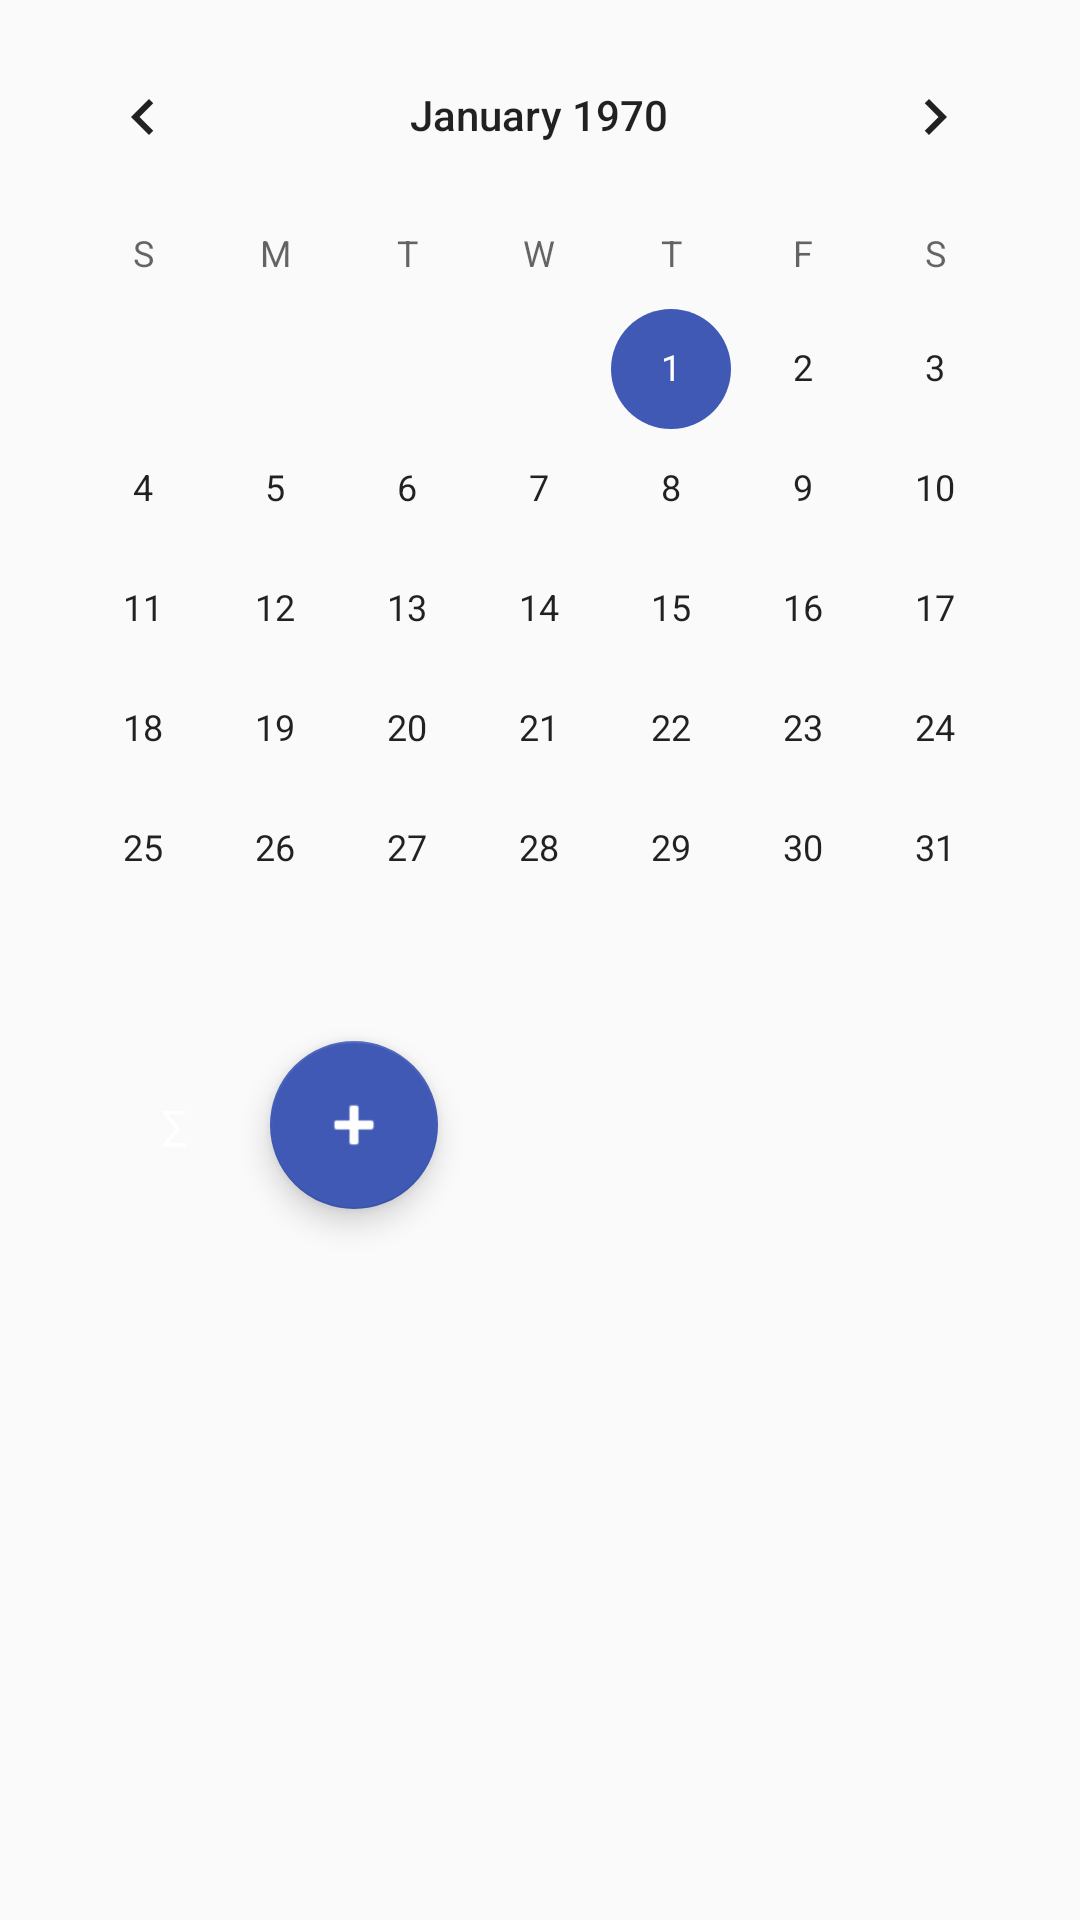

Locate icon controls on the screen. Image size 1080w x 1920h, boxes as (x1, y1, x2, y2).
add: (270, 1041, 438, 1209)
